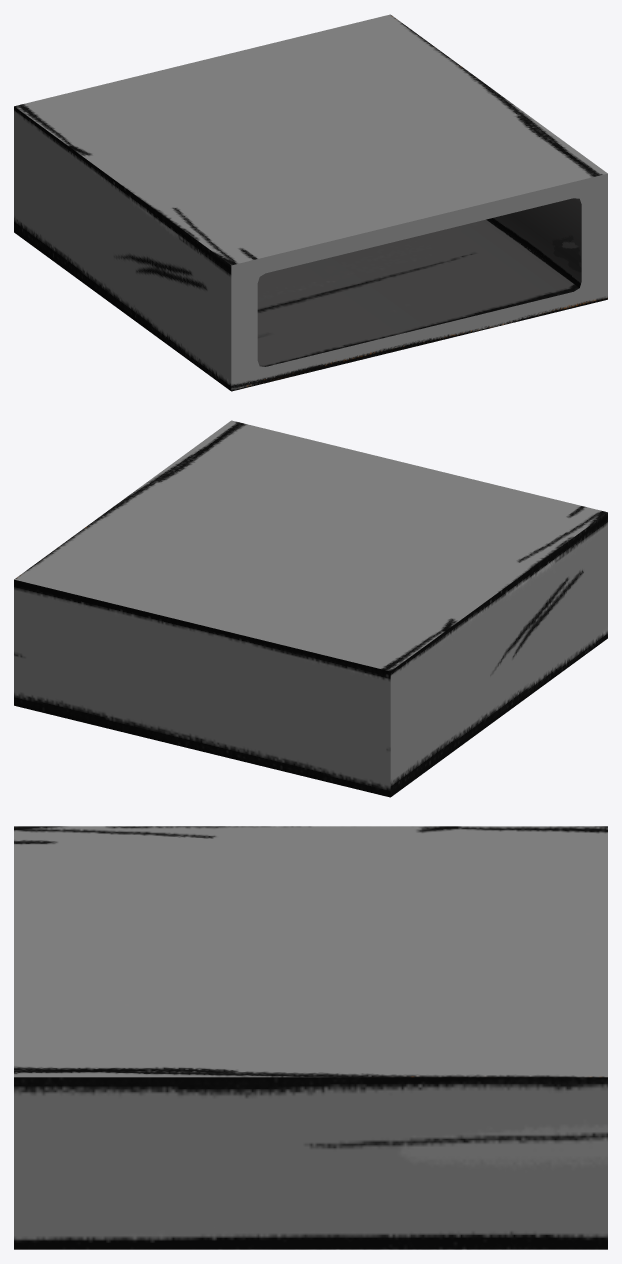
Rendered from SM_SingleDrawer02.fbx.
3 renders of one model, top to bottom at view 1: azimuth 30°, elevation 25°; view 2: azimuth 150°, elevation 25°; view 3: azimuth 270°, elevation 25°, orthographic. The views are drawn at different scales.
Parts seen in each view (by area): view 1: SingleDrawer; view 2: SingleDrawer; view 3: SingleDrawer.
Part boxes in pixels (x1,y1,x2,y2): SingleDrawer: (14, 14, 607, 391); SingleDrawer: (14, 420, 607, 797); SingleDrawer: (14, 826, 607, 1249).
Size of the model in its own units: 75 by 24 by 75.
